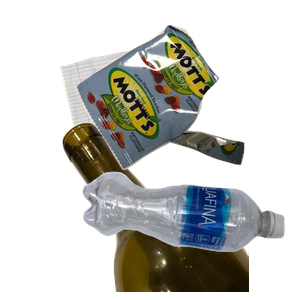glass: (60, 120, 300, 300)
paper: (56, 40, 229, 166)
plastic: (80, 169, 300, 300)
trash: (74, 22, 300, 185)
